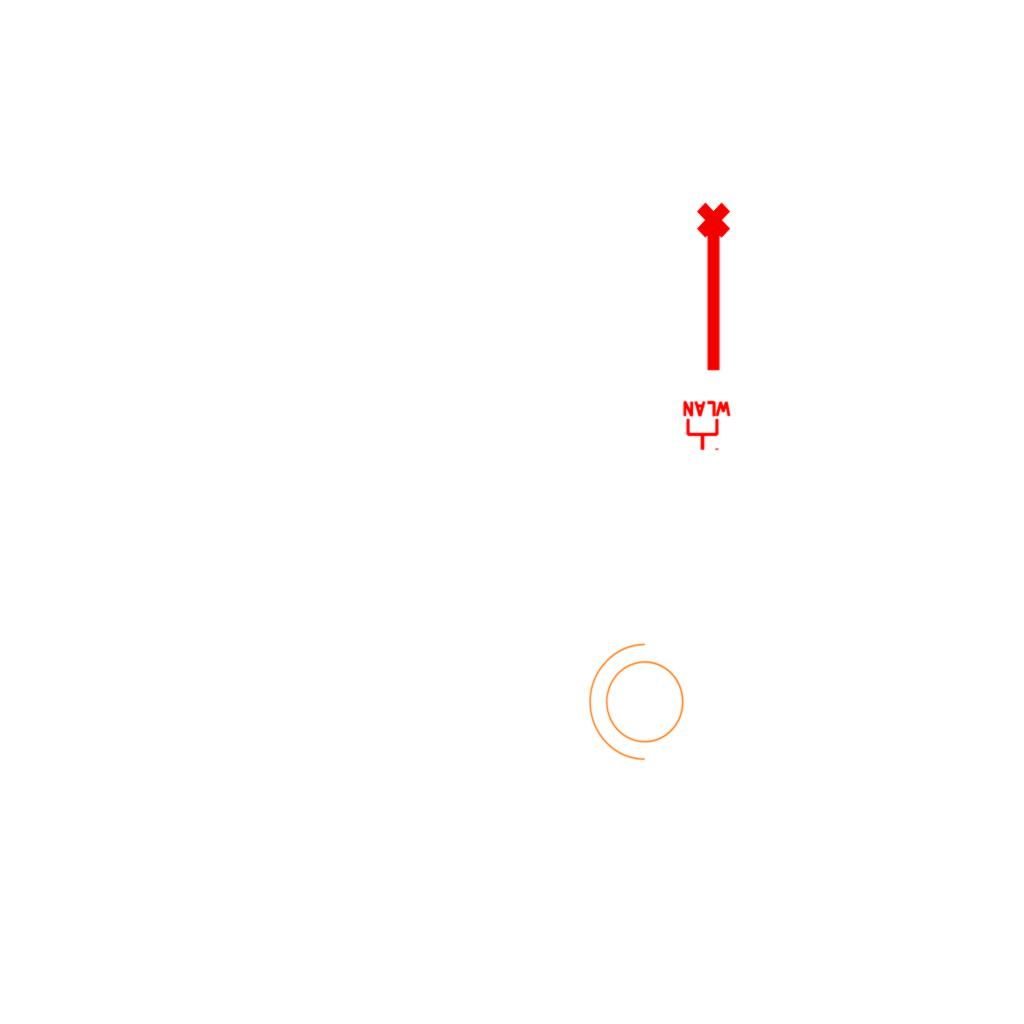ASR_Ansaugoeffnung: (693, 200, 739, 376)
Scheinwerfer_fuer_Alarmbeleuchtung: (584, 639, 696, 771)
WLAN: (681, 400, 733, 452)
